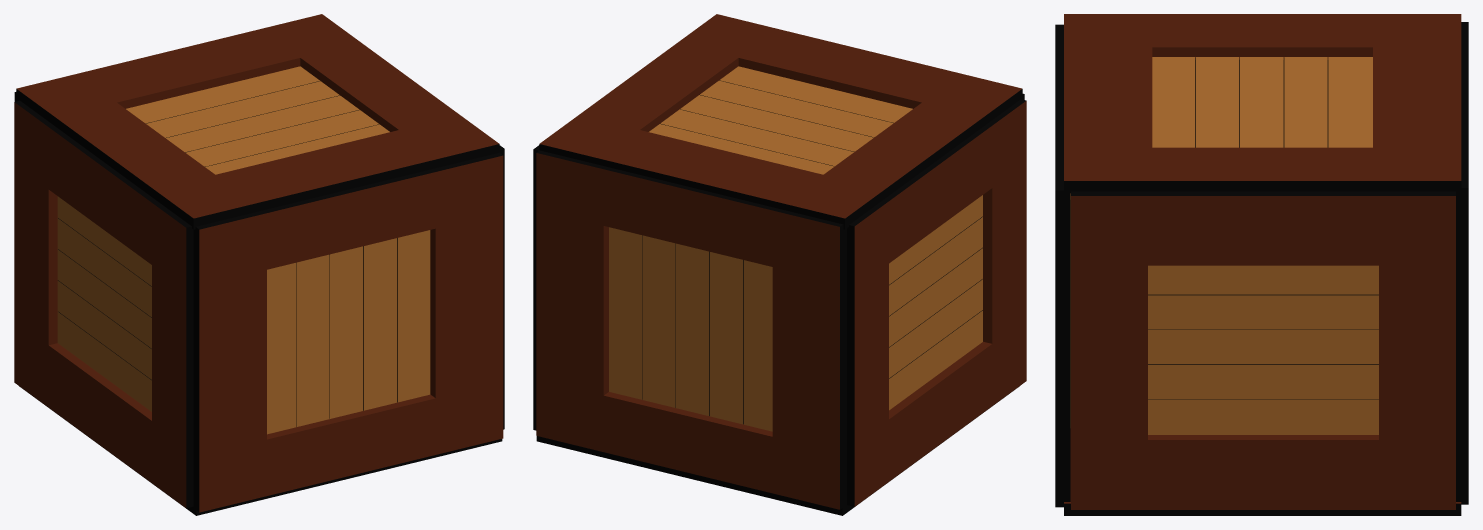
File: Crate.fbx
3 views of the same model, side by side, from view 1: azimuth 30°, elevation 25°; view 2: azimuth 150°, elevation 25°; view 3: azimuth 270°, elevation 25° (orthographic). The views are drawn at different scales.
Parts seen in each view (by area): view 1: Crate; view 2: Crate; view 3: Crate.
Part boxes in pixels (bbox=[...]): Crate: bbox=[14, 14, 504, 515]; Crate: bbox=[533, 14, 1026, 515]; Crate: bbox=[1055, 14, 1468, 515].
Size of the model in its own units: 5.37 by 4.78 by 5.37.
